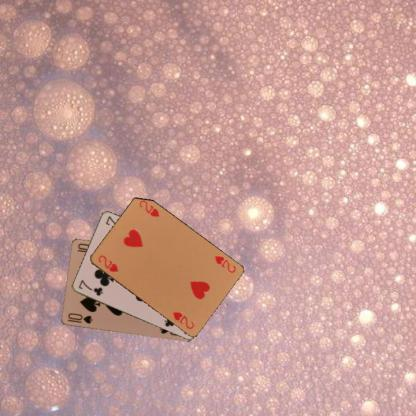10s: (64, 310, 93, 325)
2h: (211, 253, 237, 275), (95, 252, 120, 274)
7c: (76, 277, 104, 297)
